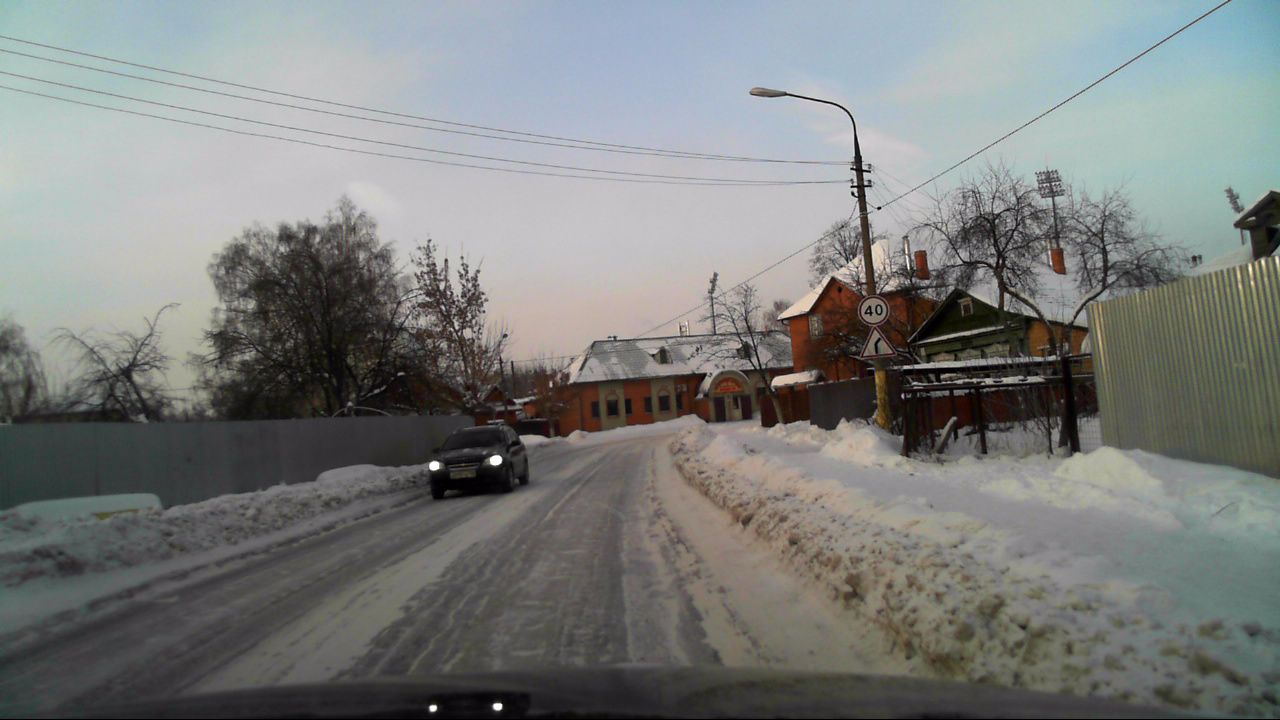speed_warning_40: (855, 294, 891, 327)
